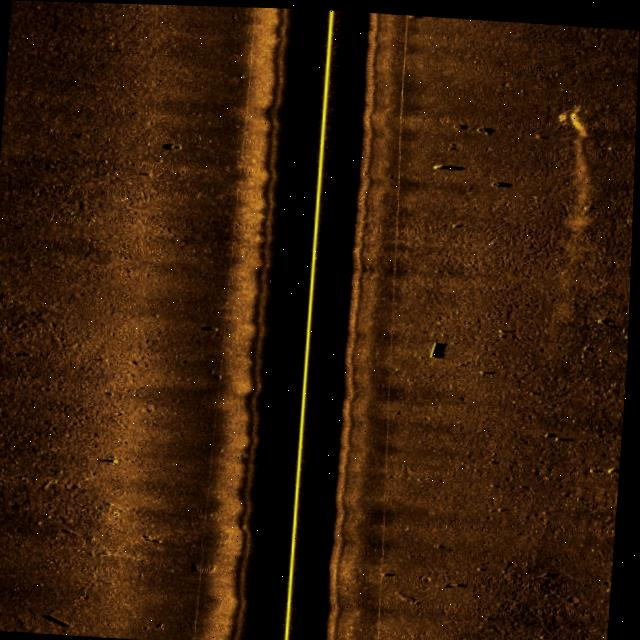mine: (41, 611, 81, 633), (429, 155, 463, 173), (430, 336, 452, 358)
